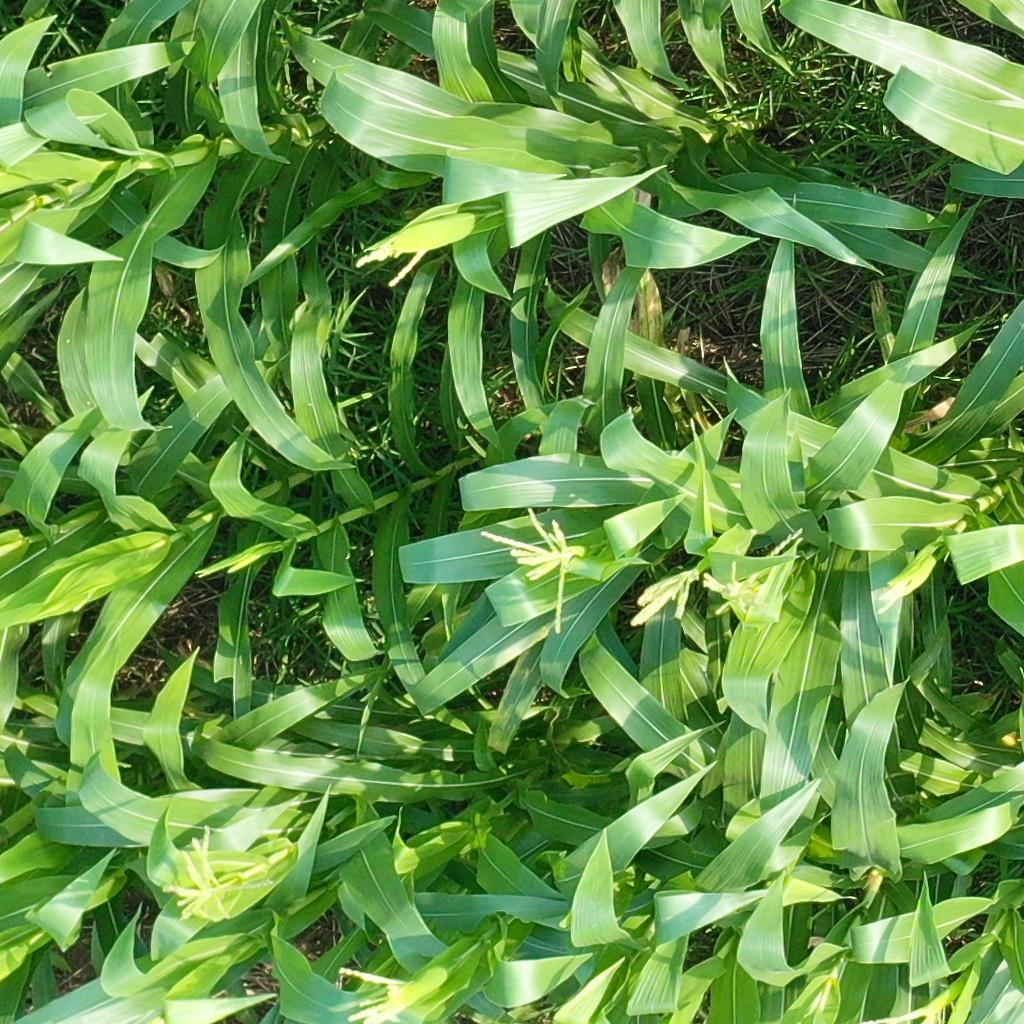Tassel: (477, 502, 592, 640), (160, 824, 279, 925), (699, 519, 803, 621), (328, 962, 415, 1024), (630, 563, 693, 627), (852, 988, 962, 1024), (349, 234, 429, 282), (191, 547, 264, 578), (871, 574, 919, 615)
